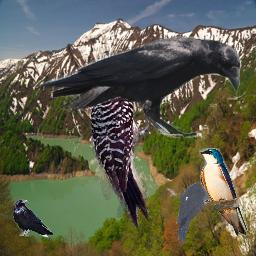Crow: (35, 36, 241, 138), (13, 199, 53, 240)
Swallow: (199, 148, 248, 236)
Woodpecker: (91, 64, 149, 228), (166, 173, 227, 244)
